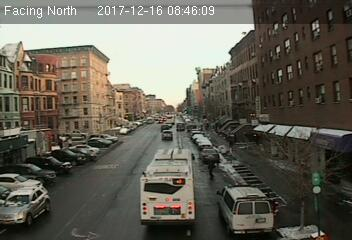bus: (137, 147, 197, 227)
car: (1, 183, 51, 228), (200, 147, 220, 163), (160, 129, 173, 139)
pedestrian: (206, 160, 217, 180)
police: (215, 182, 274, 234)
